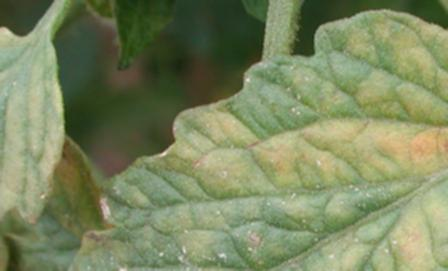Tomato mold leaf: (51, 10, 448, 271), (0, 25, 75, 249)
